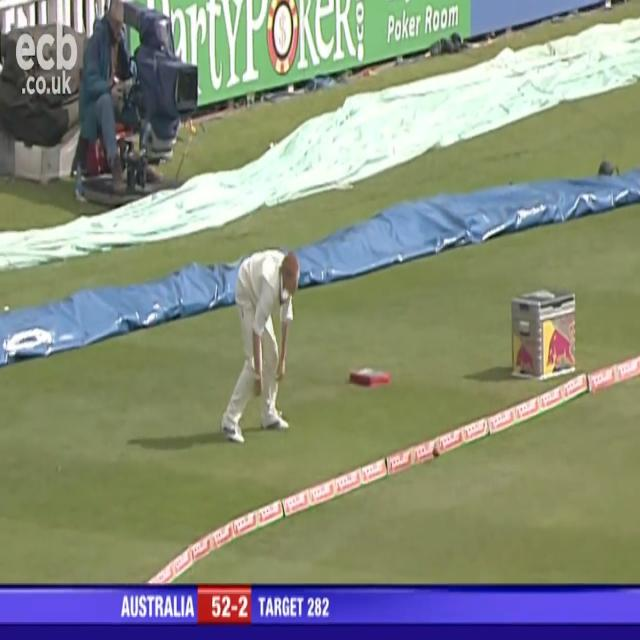ball: (431, 444, 440, 464)
